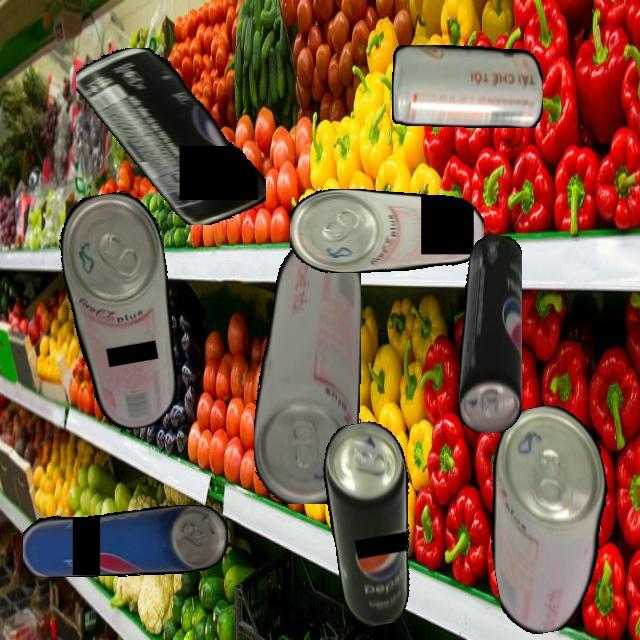debris: (469, 398, 630, 639), (51, 186, 193, 436), (76, 47, 266, 225), (253, 238, 361, 504), (315, 417, 432, 630), (290, 188, 484, 273), (22, 505, 228, 577), (457, 235, 522, 433), (391, 44, 543, 128)
